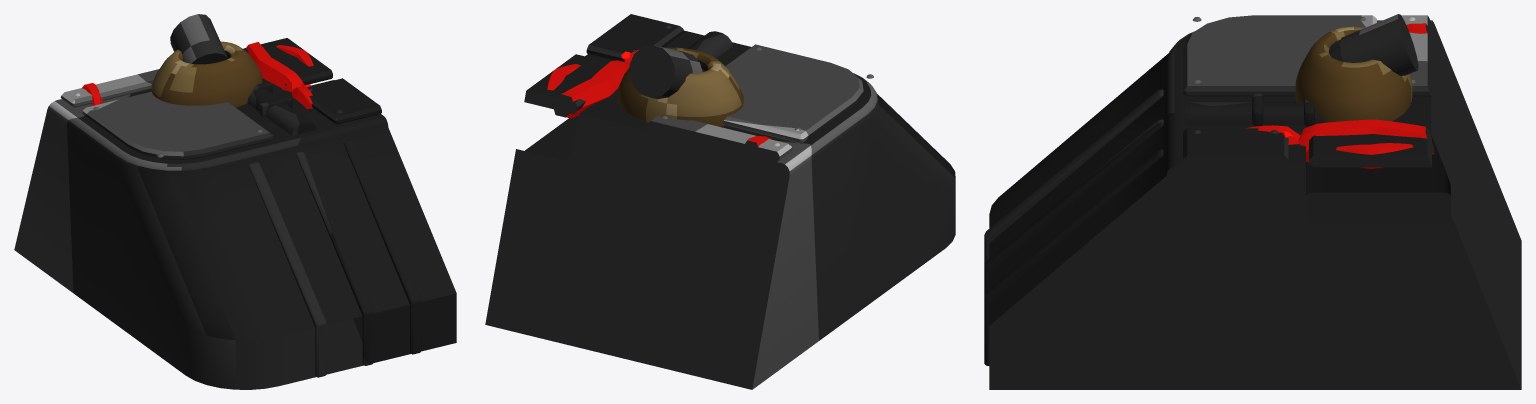
The model's file is asteroid_rig_bl_wreck.glb.
3 views of the same model, side by side, from view 1: azimuth 30°, elevation 25°; view 2: azimuth 150°, elevation 25°; view 3: azimuth 270°, elevation 25° (orthographic). The views are drawn at different scales.
Visible parts, largest first — view 1: asteroid_rig_bl_wreck; view 2: asteroid_rig_bl_wreck; view 3: asteroid_rig_bl_wreck.
Boxes of the visible parts, <box> form: asteroid_rig_bl_wreck: <box>14,14,456,389</box>; asteroid_rig_bl_wreck: <box>485,14,955,389</box>; asteroid_rig_bl_wreck: <box>984,14,1521,389</box>.
Size of the model in its own units: 20 by 19.19 by 30.38.
